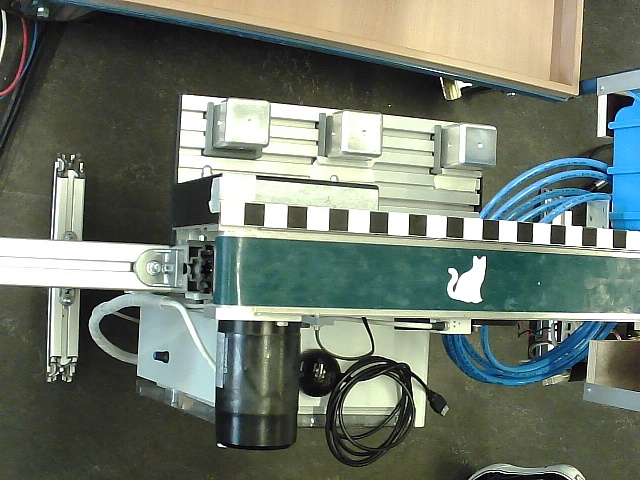cat: (447, 255, 488, 304)
